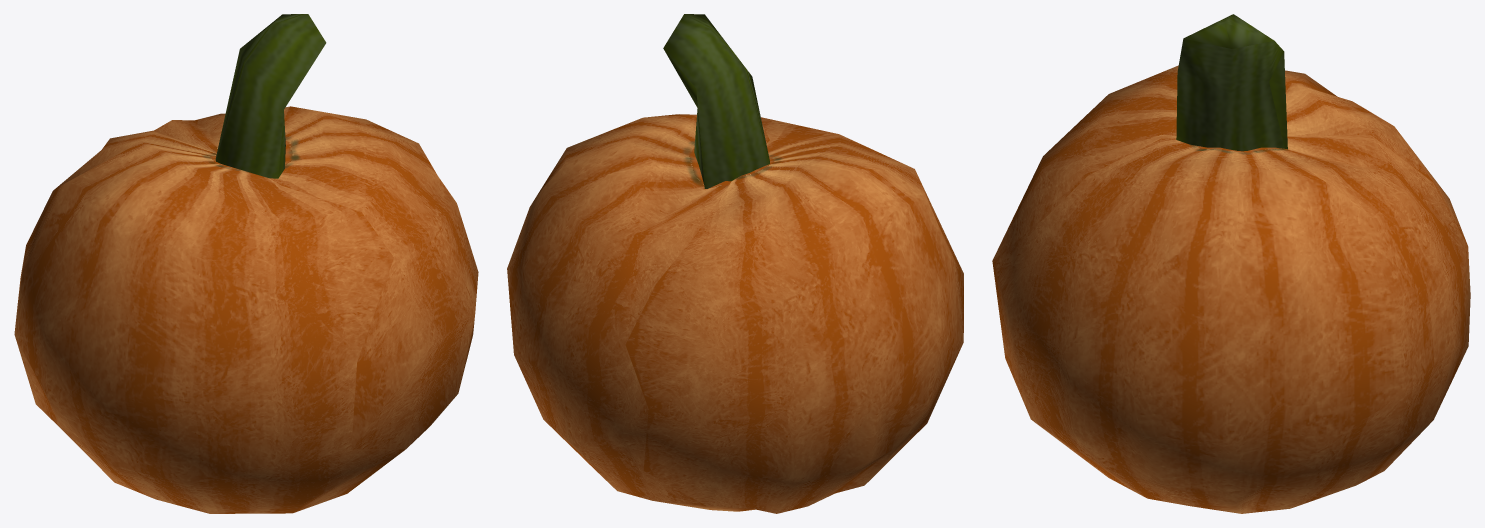
Rendered from Pumpkin.fbx.
3 renders of one model, left to right at view 1: azimuth 30°, elevation 25°; view 2: azimuth 150°, elevation 25°; view 3: azimuth 270°, elevation 25°, orthographic. The views are drawn at different scales.
Visible parts, largest first — view 1: Pumpkin; view 2: Pumpkin; view 3: Pumpkin.
Boxes of the visible parts, <box> form: Pumpkin: <box>14,14,478,513</box>; Pumpkin: <box>507,14,963,513</box>; Pumpkin: <box>992,14,1470,513</box>.
Bounding box in the file's own units: 1.12 × 1.23 × 1.08.
1 material, 1 textured.
